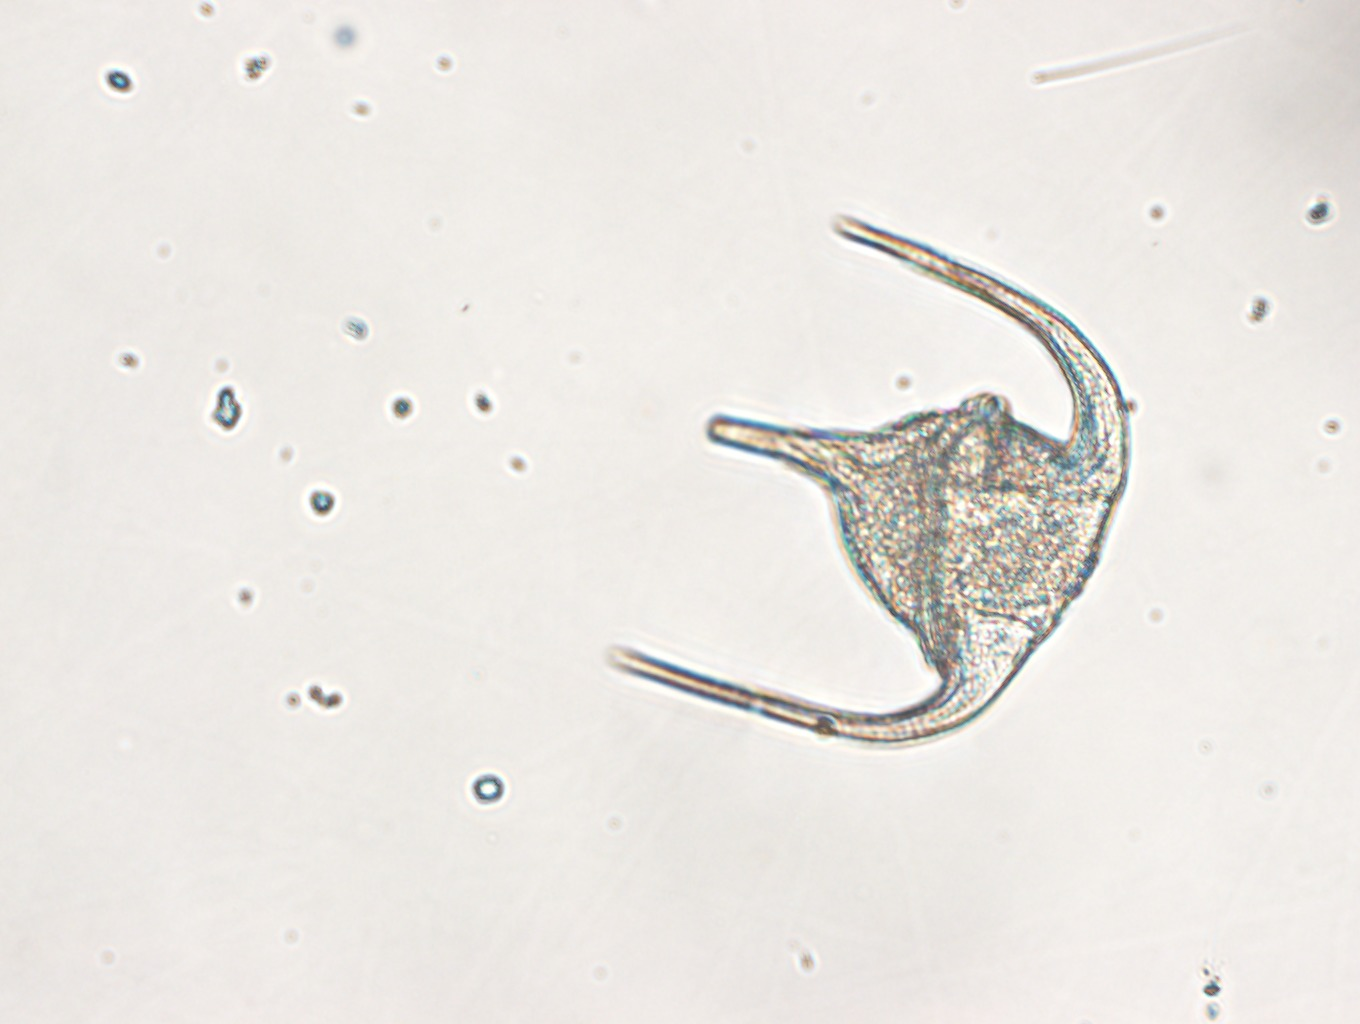ceratium tripos: (613, 216, 1136, 779)
